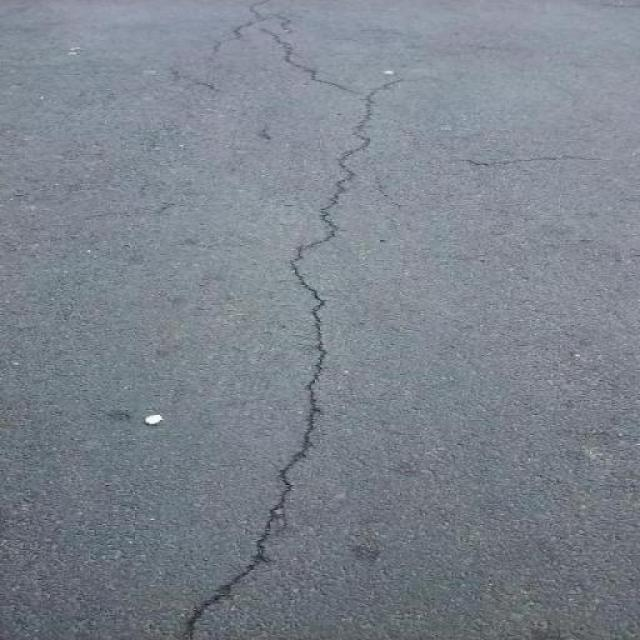Crack: (152, 2, 428, 640)
